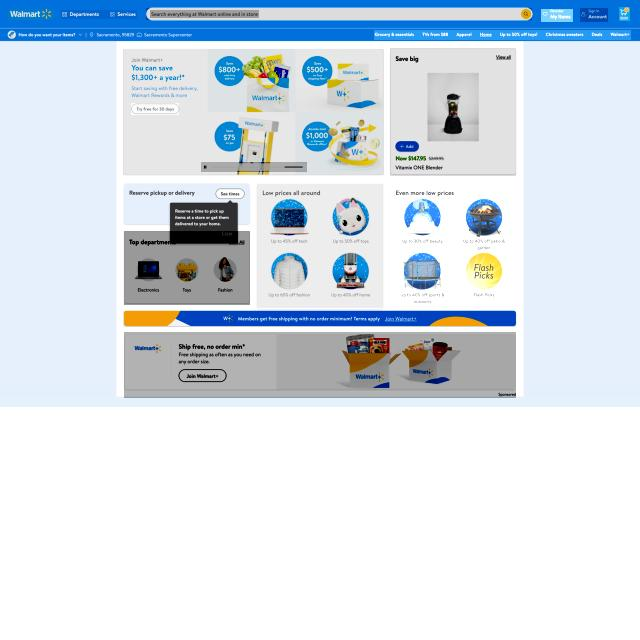CheckBox: (131, 103, 179, 115), (541, 9, 573, 22), (580, 8, 608, 22), (619, 7, 630, 21), (520, 9, 532, 19)
CheckedTextView: (146, 8, 532, 20)
ImageView: (124, 332, 516, 398)
ProgressBar: (123, 311, 516, 327)
Spinner: (390, 183, 517, 310), (390, 48, 516, 176), (257, 184, 383, 308), (124, 231, 250, 305)
card: (123, 49, 384, 175)
date picker: (8, 9, 54, 20)
decoration: (374, 30, 631, 40), (61, 10, 137, 19)
footer: (150, 10, 259, 18)
heading: (201, 162, 307, 172)
